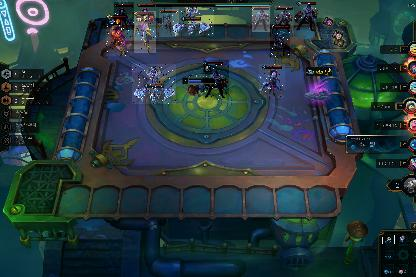1_nidalee: (159, 9, 179, 37)
1_sylas: (274, 6, 294, 30), (252, 6, 270, 32)
1_vladimir: (114, 2, 134, 30)
2_nidalee: (270, 24, 290, 58)
2_skarner: (132, 64, 176, 104), (172, 6, 214, 36)
2_sylas: (203, 60, 229, 100), (295, 0, 319, 34)
2_vladimir: (259, 64, 285, 98)
3_lux: (134, 11, 156, 53)
3_varus: (106, 14, 132, 56)
